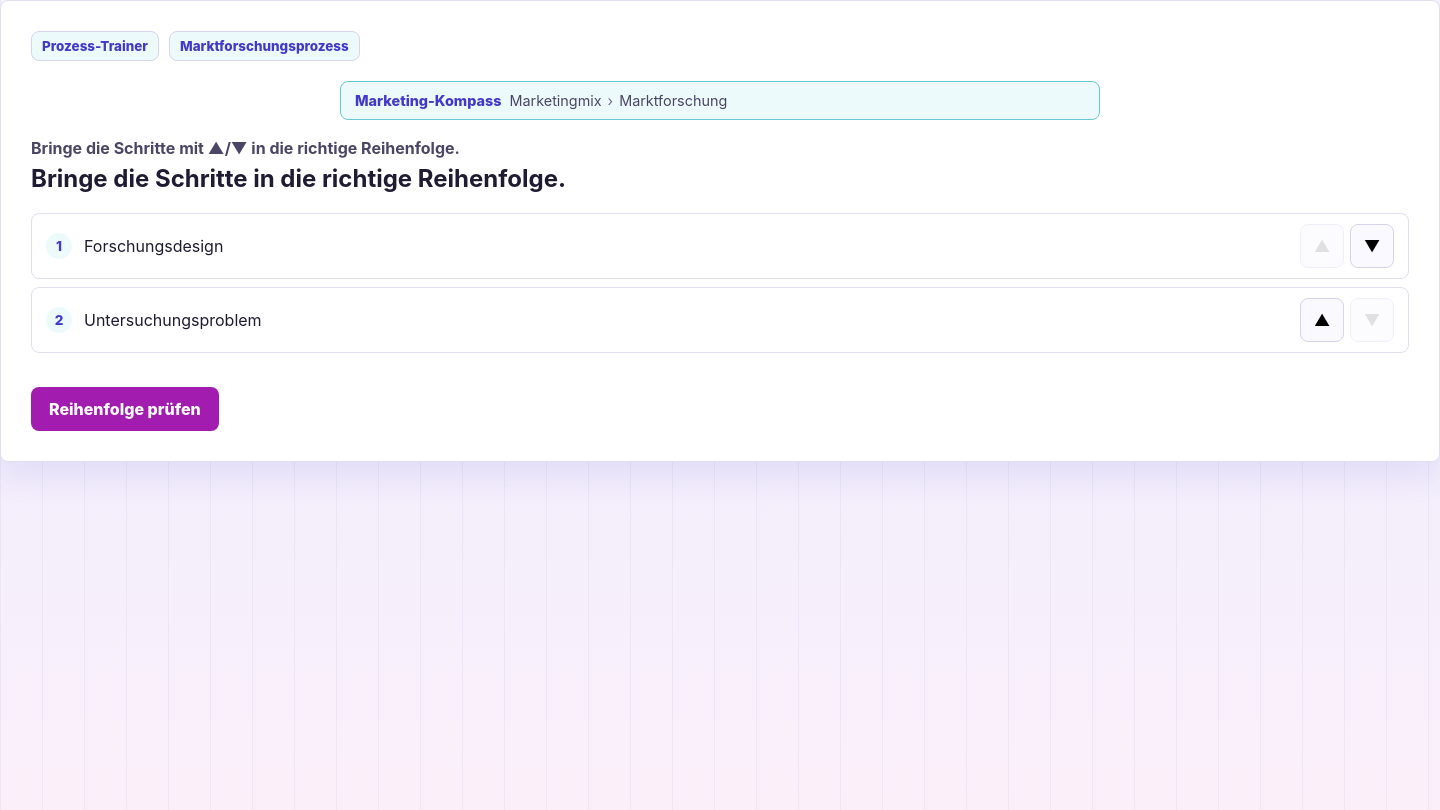
Scenario: ProcessTrainer (Test 13, 14, 15) › erkennt eine falsche Reihenfolge und zeigt Schritt-Feedback zu falsch platzierten Schritten (Test 14)
Ausgangsreihenfolge [design, problem] unverändert lassen - das ist falsch.
Click the button "Reihenfolge prüfen".
click(125, 409)  # box top-left (31, 387), bottom-right (219, 431)
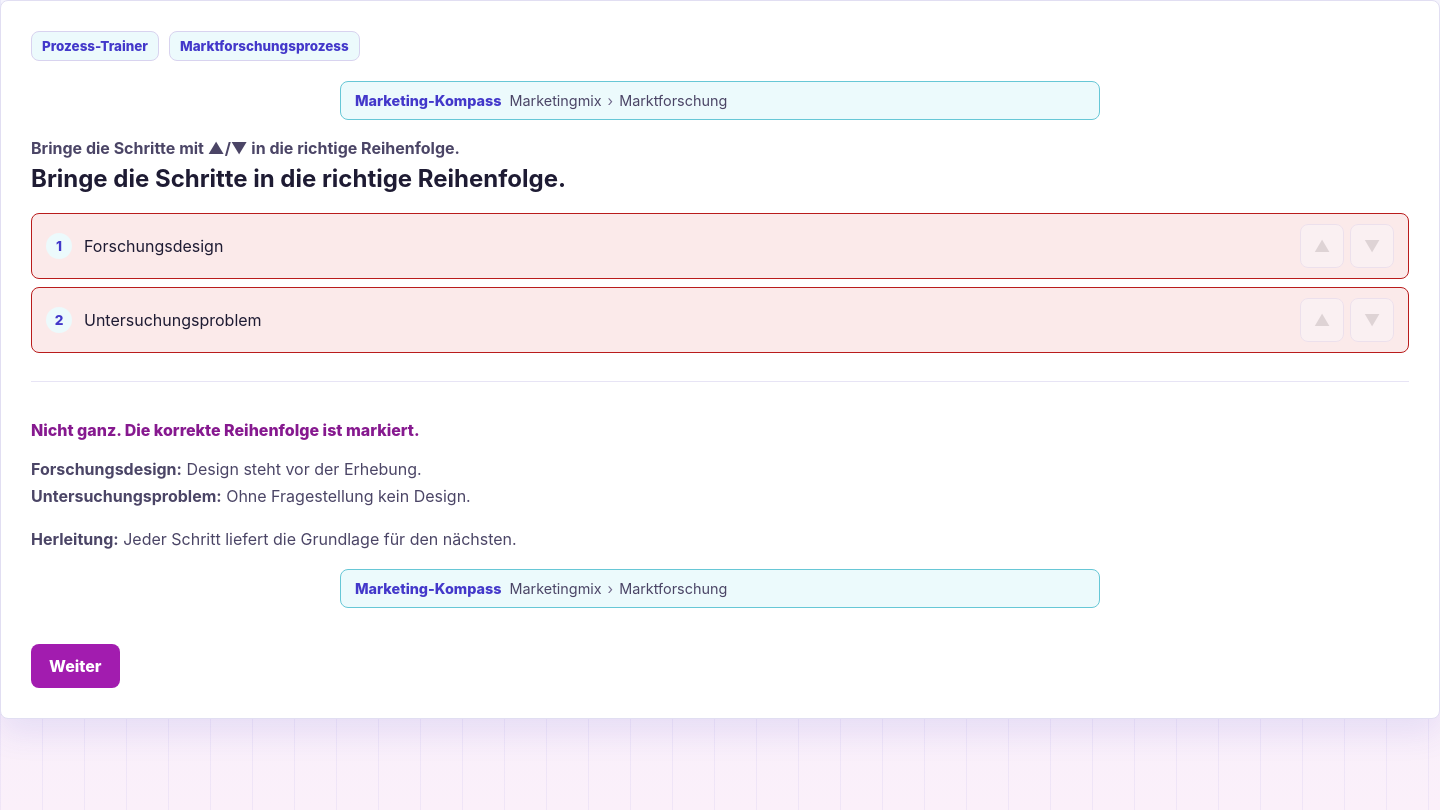
Now the text "Nicht ganz. Die korrekte Reihenfolge ist markiert." is shown, box top-left (31, 420), bottom-right (420, 440)
Now the text "Ohne Fragestellung kein Design." is shown, box top-left (222, 486), bottom-right (471, 506)
Now the text "Jeder Schritt liefert die Grundlage für den nächsten." is shown, box top-left (119, 529), bottom-right (517, 549)
